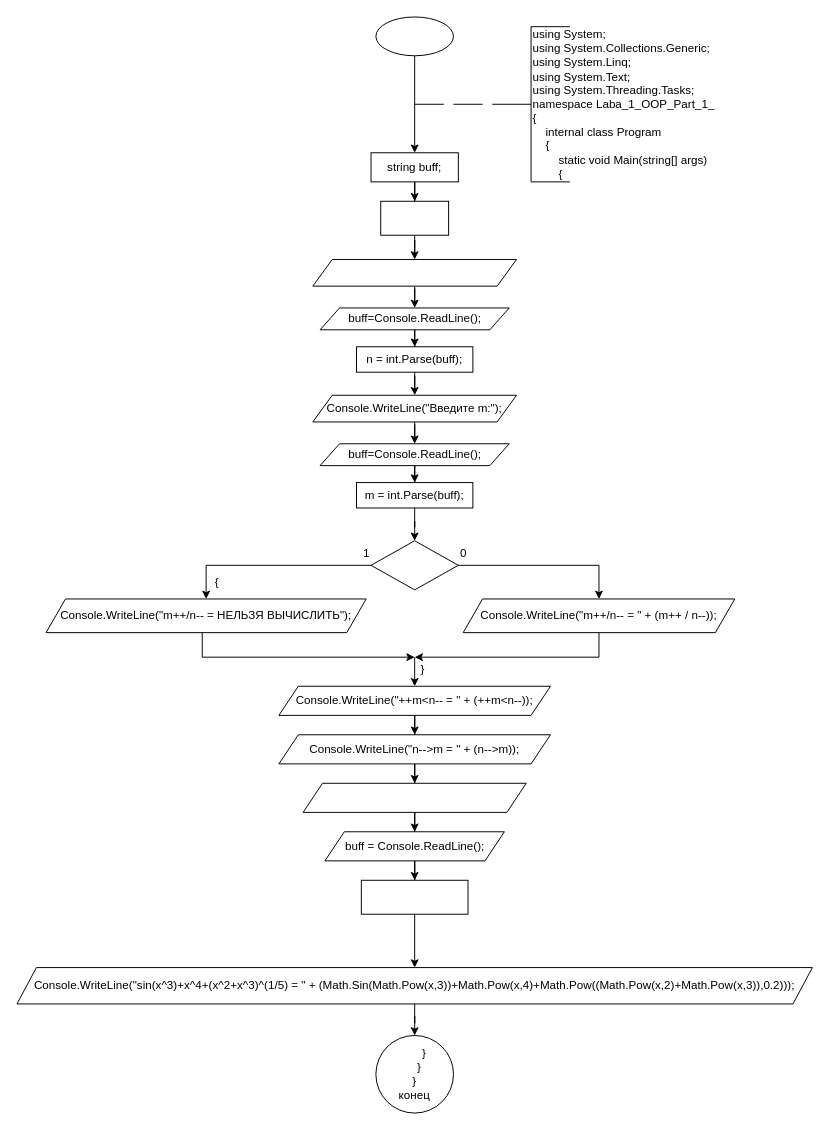
Some shapes in this 829 by 1130 pixel diagram are drawn without their labels. Here are the shapes that lost their labels. From the top down, the centre of each, then its label:
[414,36]: Начало
[414,217]: int n, m,x;
[414,272]: Console.WriteLine("Введите n:");
[414,565]: if (n == 0)
[414,797]: Console.WriteLine("Введите x:");
[414,896]: x = int.Parse(buff);
